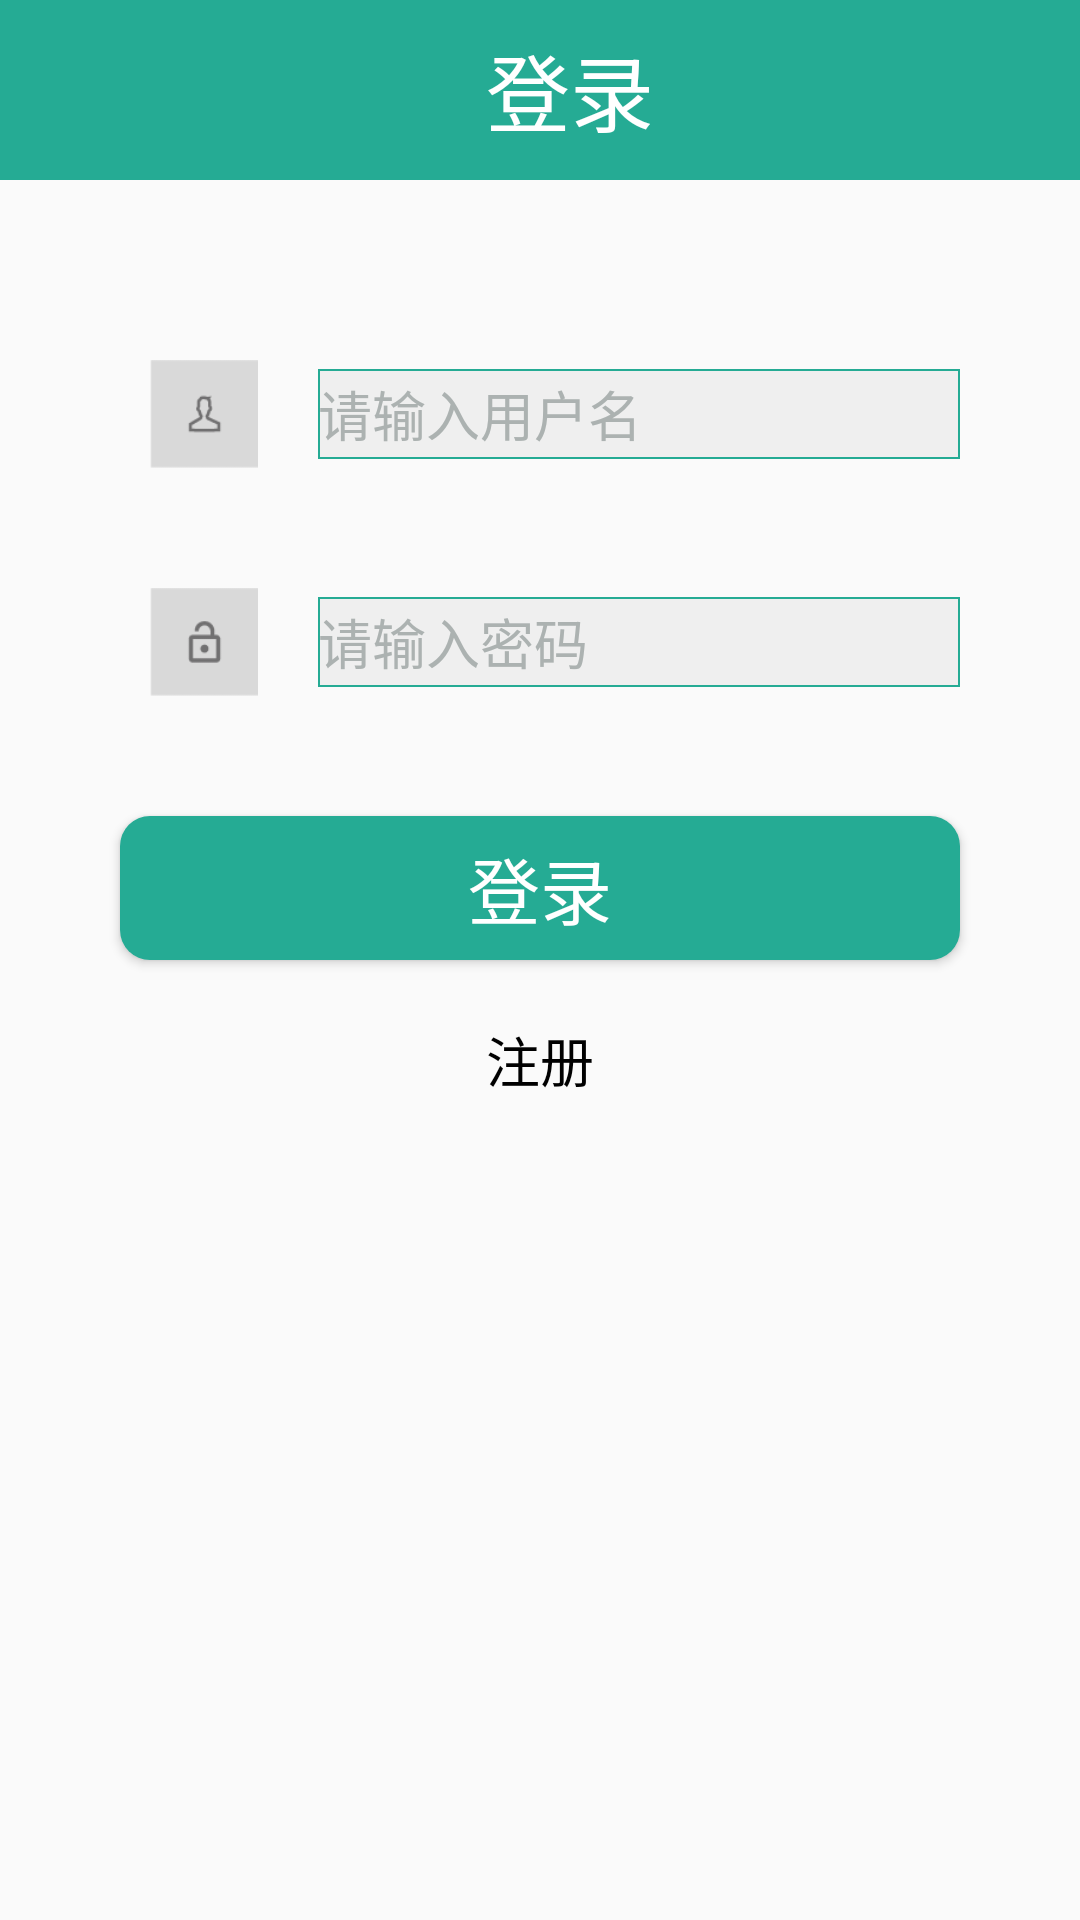

Locate icon controls on the screen. Image size 1080px x 1920px, boxes as BBox(x1, y1, x2, y2).
password: BBox(151, 588, 258, 695)
username: BBox(151, 360, 258, 467)
